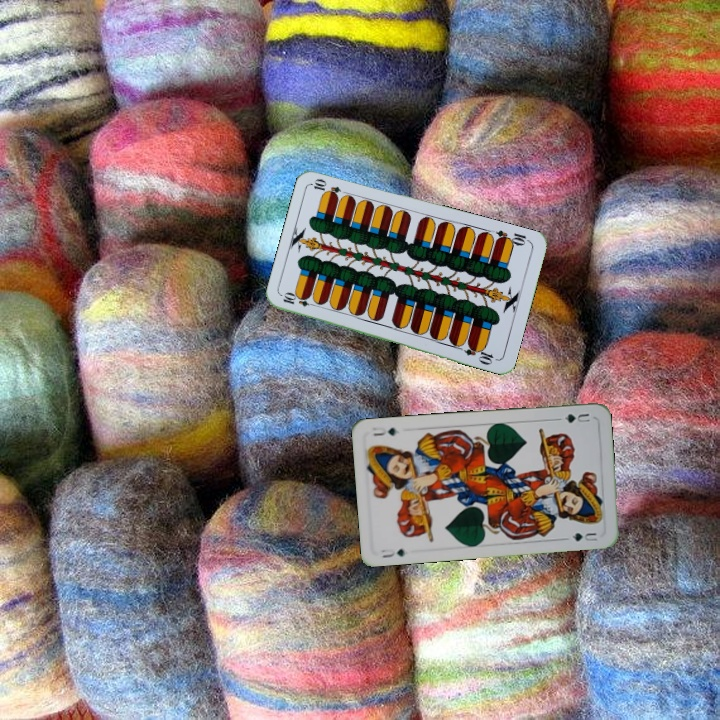E10: (492, 226, 532, 248), (279, 290, 320, 309)
GU: (554, 409, 592, 426), (378, 545, 408, 560)
